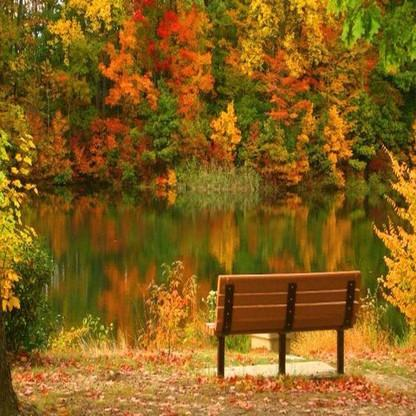obstacle: (211, 265, 370, 389)
